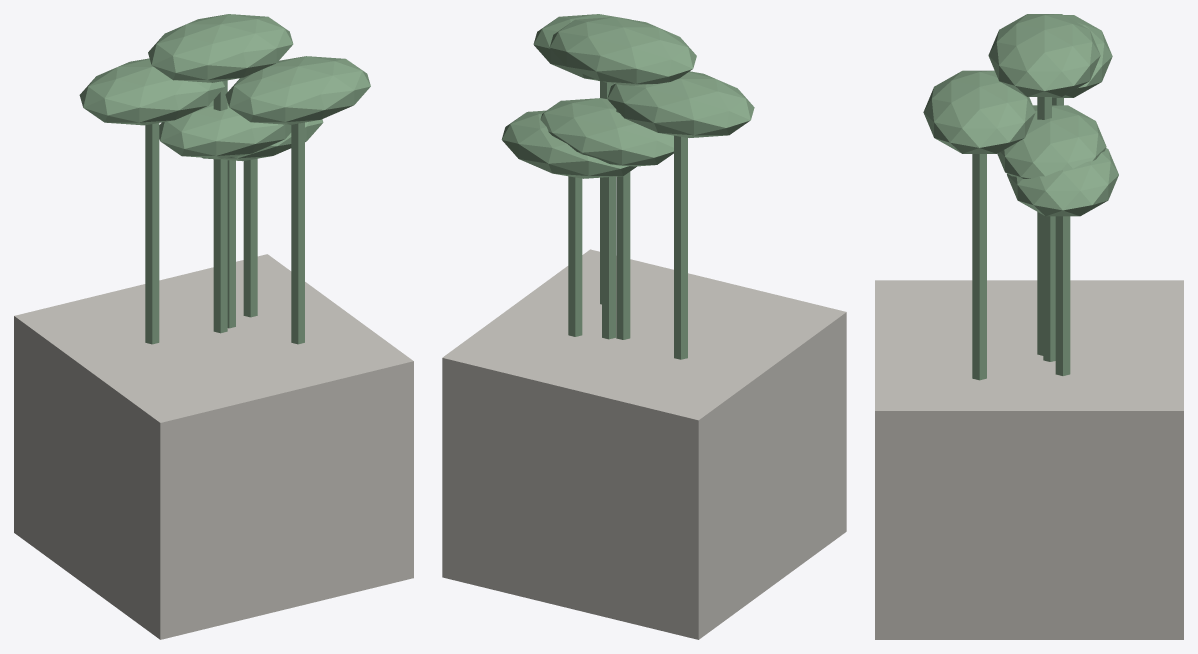
File: planter_04.glb
3 views of the same model, side by side, from view 1: azimuth 30°, elevation 25°; view 2: azimuth 150°, elevation 25°; view 3: azimuth 270°, elevation 25° (orthographic). The views are drawn at different scales.
Parts seen in each view (by area): view 1: pot, leaf1, leaf2, leaf0, leaf3, stem0, stem2, stem1, stem4, stem3, leaf4; view 2: pot, leaf1, leaf0, leaf3, leaf4, stem0, stem1, stem4, stem3, leaf2; view 3: pot, leaf1, leaf2, leaf3, leaf4, stem2, stem4, stem3, stem1, leaf0.
Part boxes in pixels (<box>): pot: <box>14,254,413,639</box>; leaf1: <box>148,14,293,82</box>; leaf2: <box>225,56,370,124</box>; leaf0: <box>79,58,224,125</box>; leaf3: <box>159,100,291,158</box>; stem0: <box>145,123,159,344</box>; stem2: <box>291,122,304,344</box>; stem1: <box>213,80,227,333</box>; stem4: <box>243,158,257,317</box>; stem3: <box>227,160,235,328</box>; leaf4: <box>202,119,323,161</box>; pot: <box>442,249,846,639</box>; leaf1: <box>549,17,696,85</box>; leaf0: <box>607,71,754,137</box>; leaf3: <box>540,98,673,166</box>; leaf4: <box>501,110,636,178</box>; stem0: <box>674,135,687,359</box>; stem1: <box>616,110,630,339</box>; stem4: <box>568,176,582,336</box>; stem3: <box>602,176,615,339</box>; leaf2: <box>533,14,630,80</box>; pot: <box>875,280,1183,639</box>; leaf1: <box>988,14,1100,96</box>; leaf2: <box>923,70,1035,153</box>; leaf3: <box>997,105,1106,178</box>; leaf4: <box>1007,148,1118,216</box>; stem2: <box>972,154,986,380</box>; stem4: <box>1055,216,1070,375</box>; stem3: <box>1043,215,1055,361</box>; stem1: <box>1037,97,1051,355</box>; leaf0: <box>1052,15,1112,97</box>.
Bounding box in the file's own units: 0.5565 × 1.08 × 0.55.
